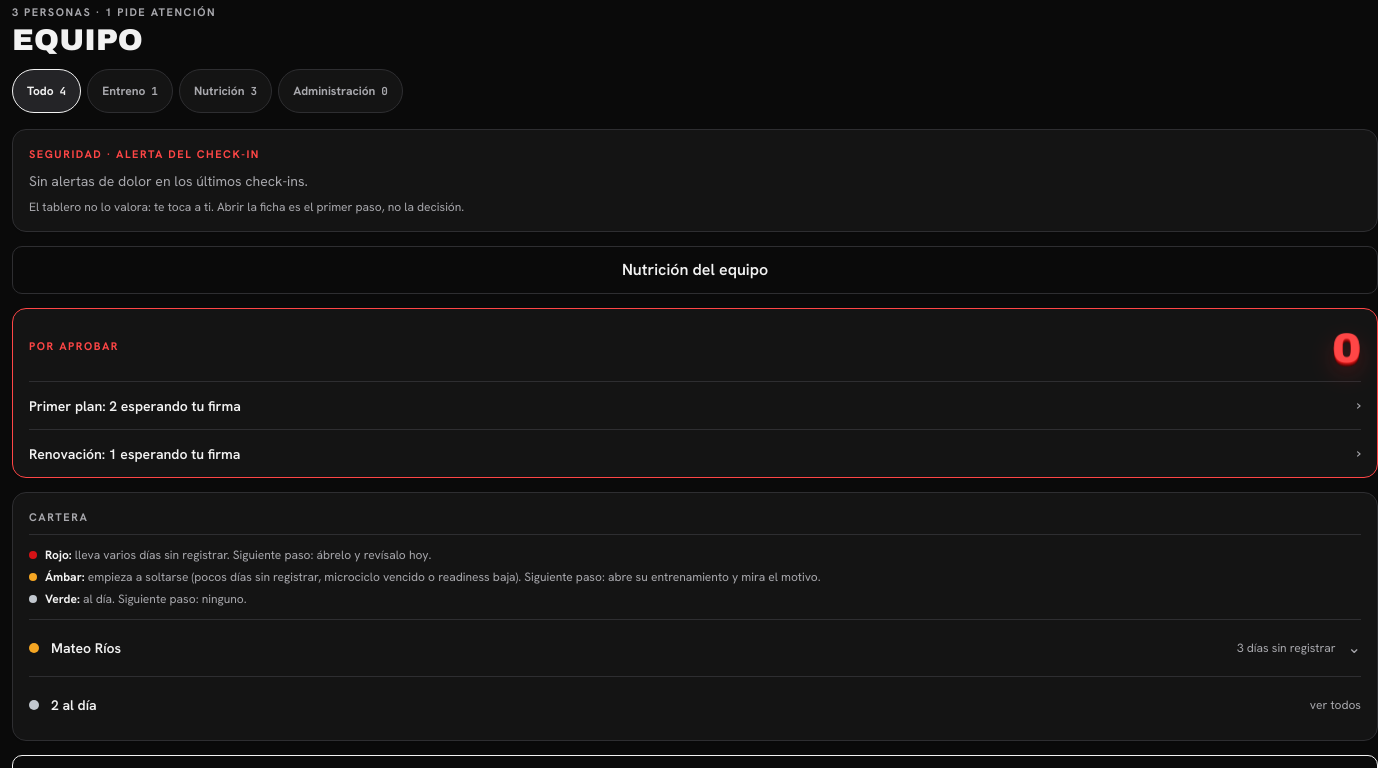
Scenario: Equipo: sombreros, ficha única y seguridad › el sombrero de Administración no deja el trabajo en un callejón: lleva a Empresa
The width and height of the screenshot is (1378, 768).
Expected: the element "Cartera" is shown, [12, 492, 1377, 741]
Click the button "Administración 0".
click(341, 91)  # box [278, 69, 403, 113]
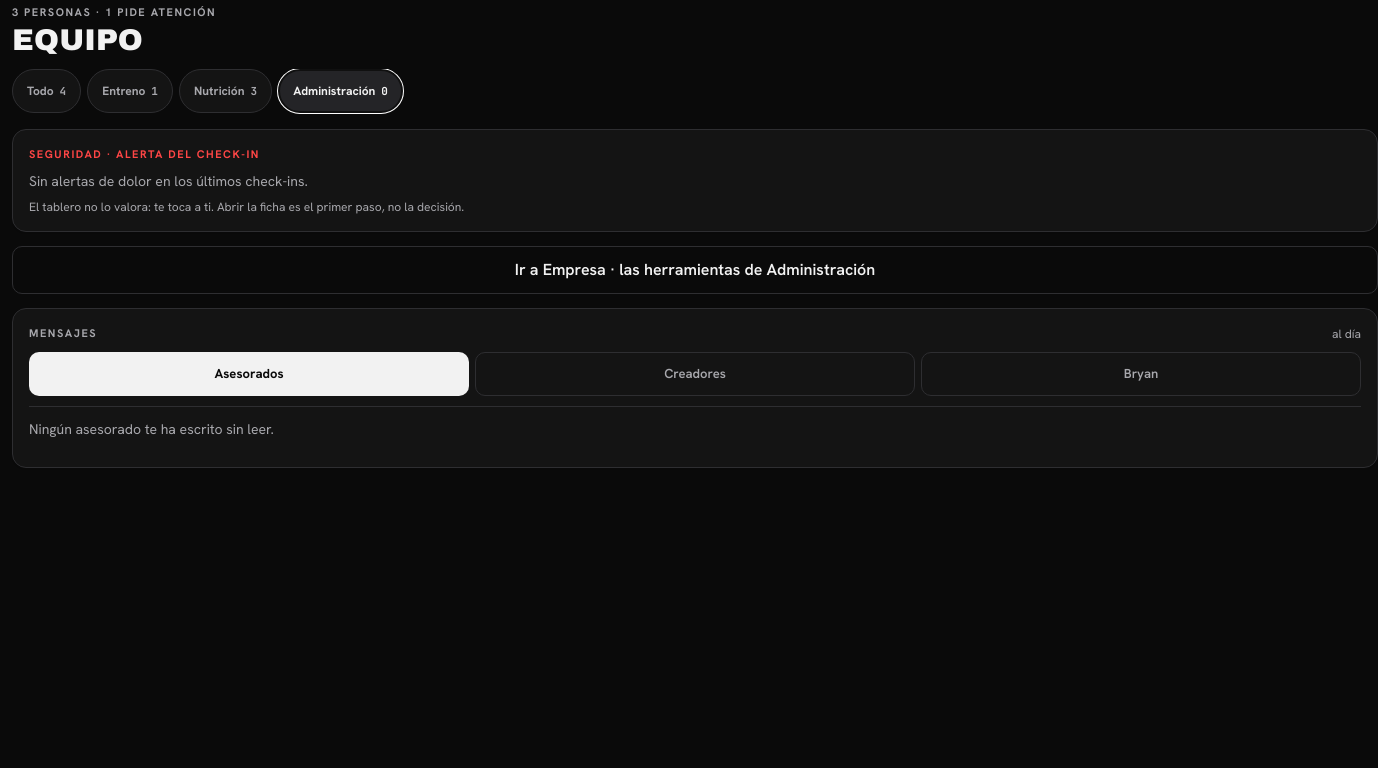
Expected: the text "Cartera" is gone
